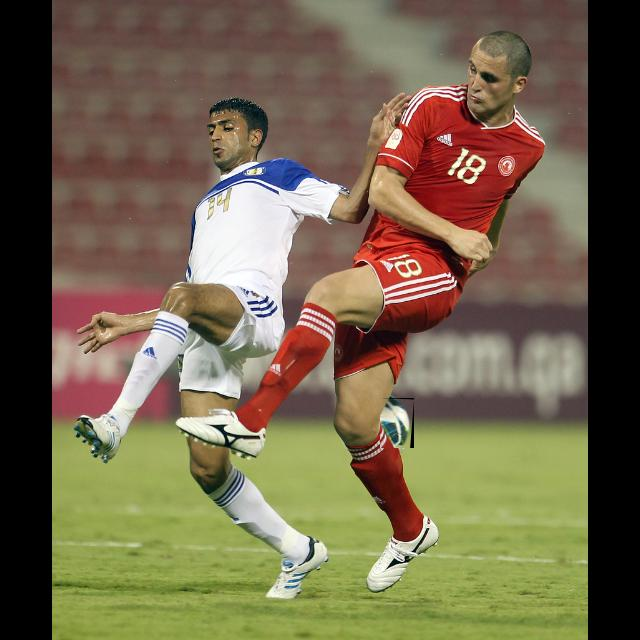Football: (380, 398, 414, 448)
